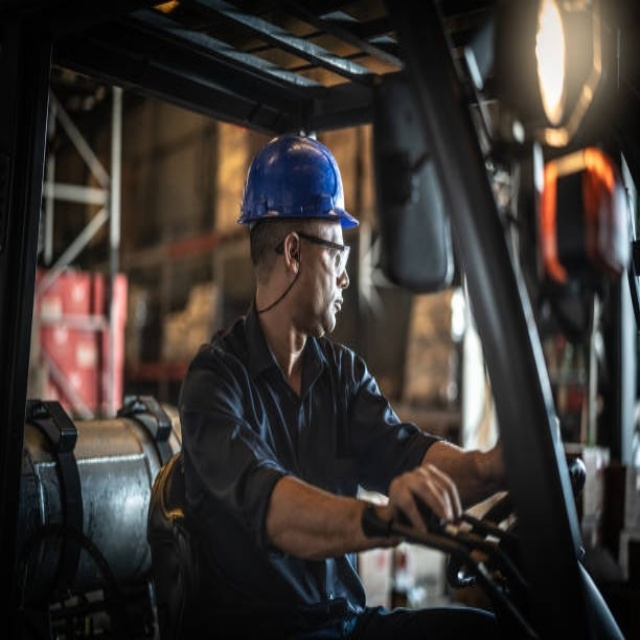Gafas: (275, 230, 349, 275)
Sin_guantes: (385, 463, 461, 535)
Sin_mascara: (314, 284, 345, 328)
